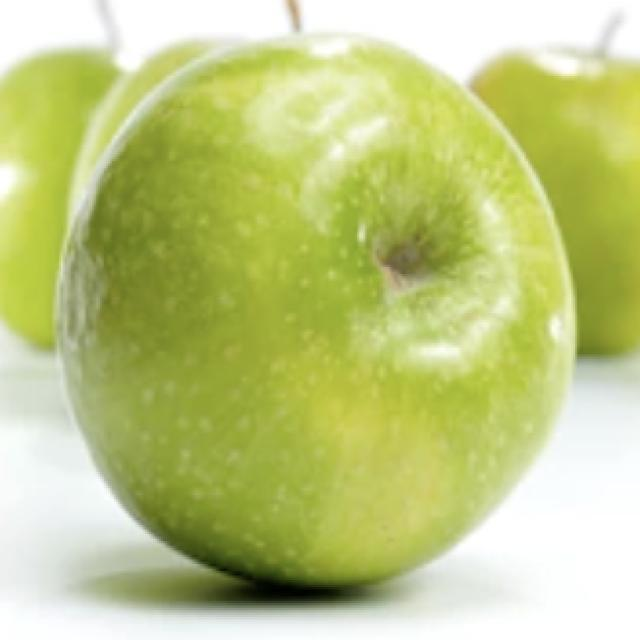Apple: (53, 30, 578, 591), (467, 17, 639, 358), (0, 44, 126, 352)
